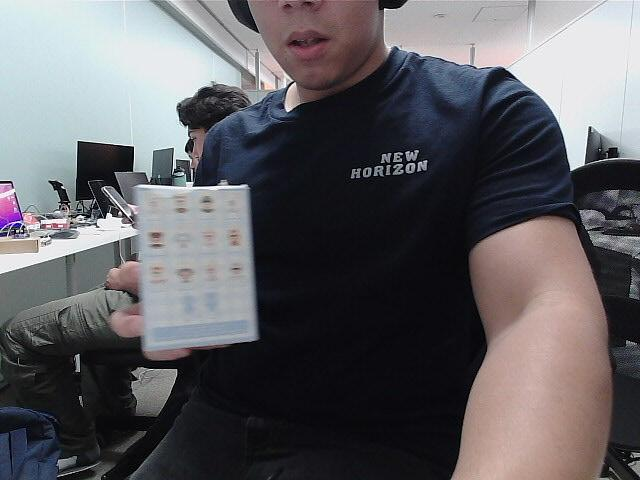Blind_box: (127, 173, 265, 357)
